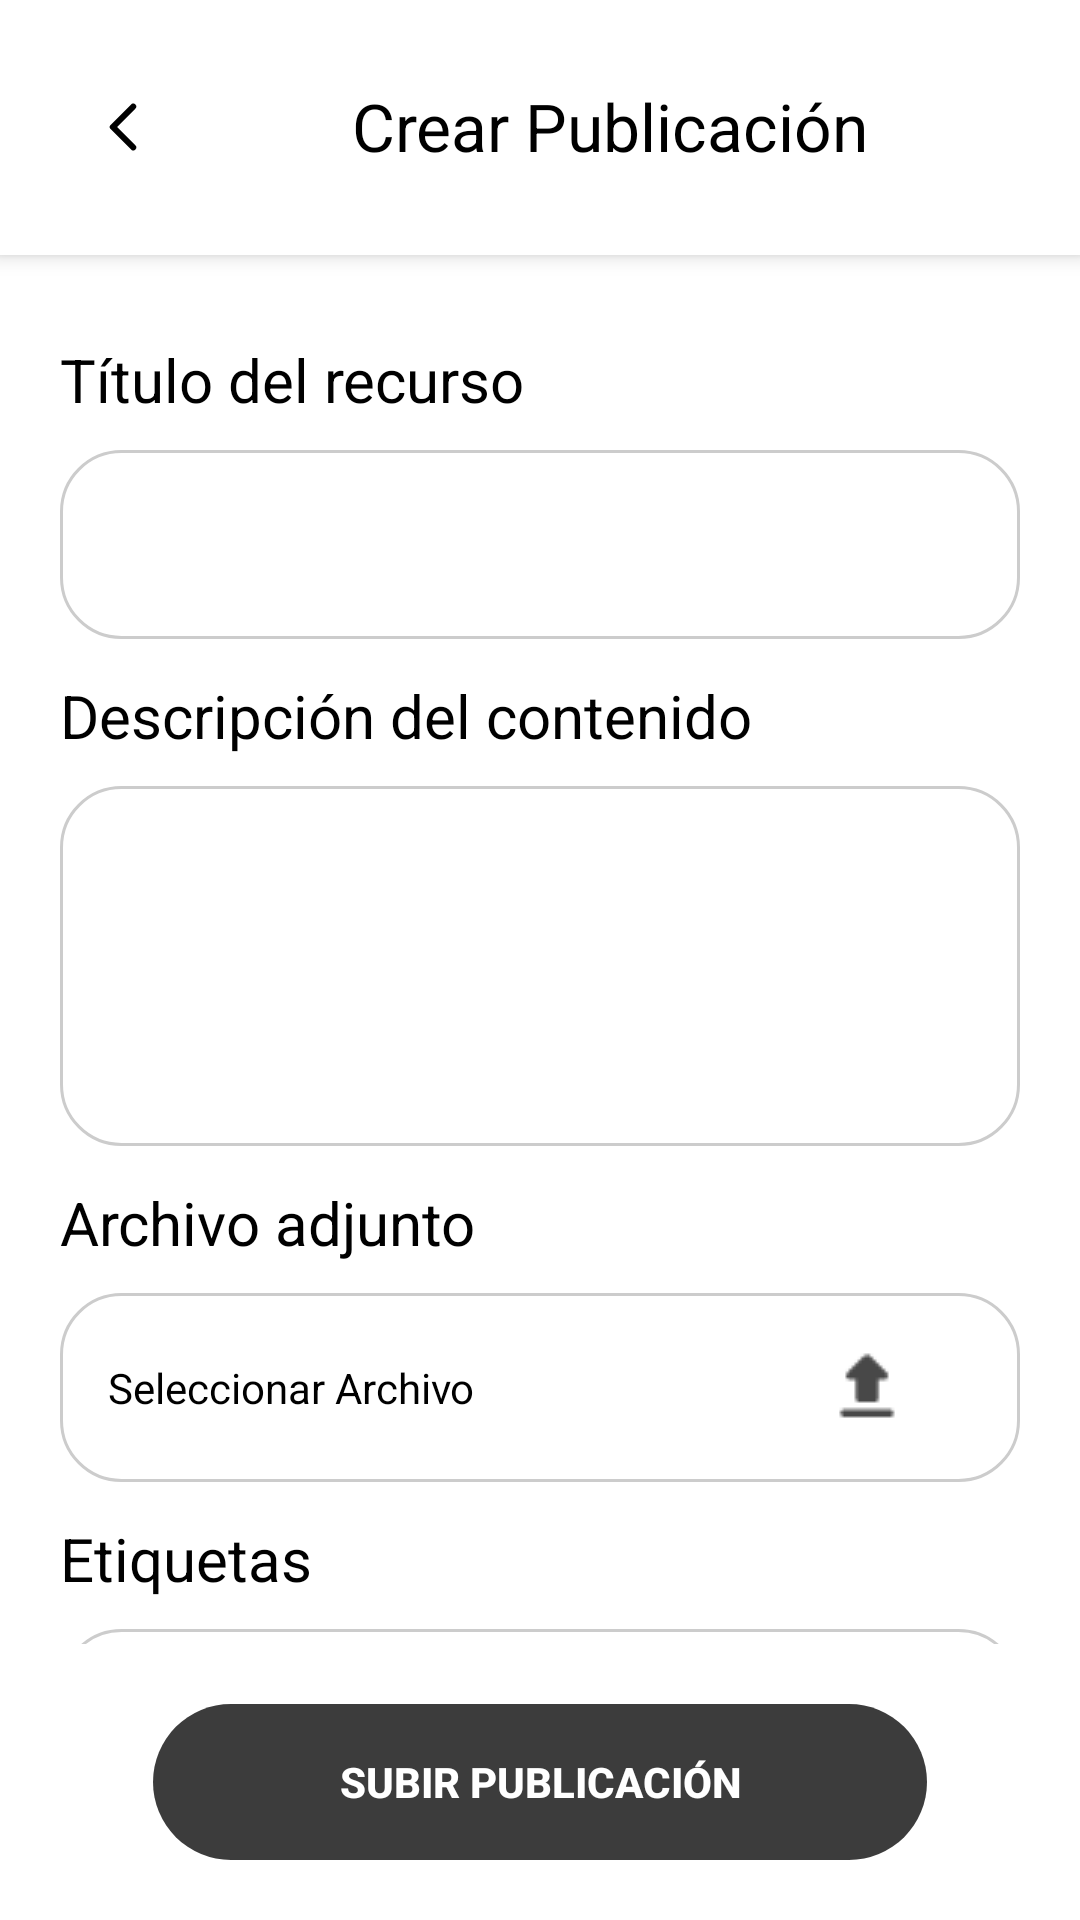

Icons on this 1080px x 1920px Android screen, each with the point to tap as [x,y]:
Regresar: [123,127]
upload: [867,1385]
